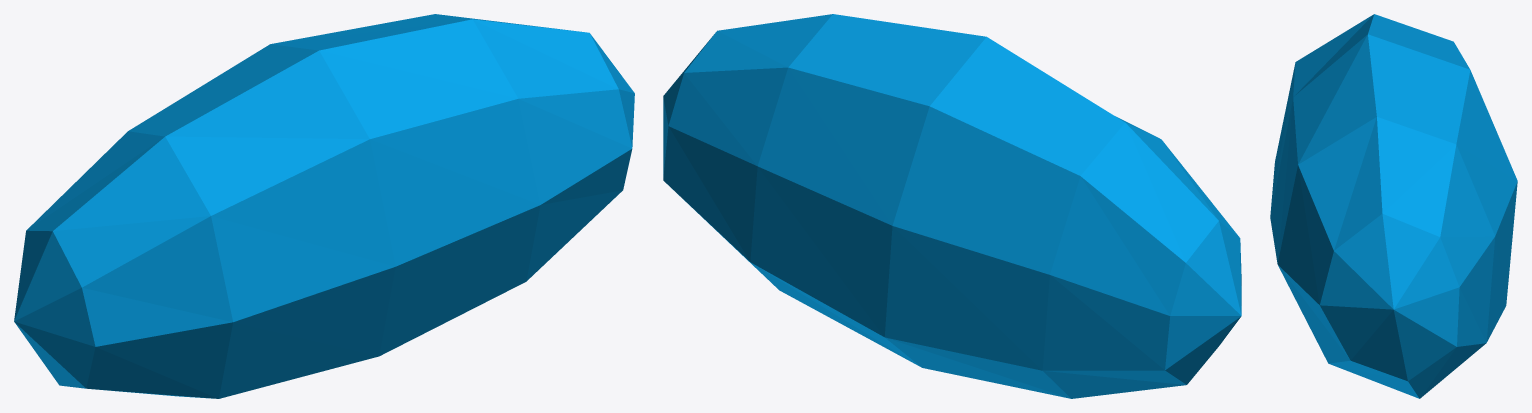
The model's file is BR_Azurill-Shiny01.obj.
The picture shows the model from 3 angles, left to right: view 1: azimuth 30°, elevation 25°; view 2: azimuth 150°, elevation 25°; view 3: azimuth 270°, elevation 25°; orthographic projection. The views are drawn at different scales.
Visible parts, largest first — view 1: ruriri; view 2: ruriri; view 3: ruriri.
Part boxes in pixels (<box>): ruriri: <box>14,14,634,398</box>; ruriri: <box>663,14,1241,398</box>; ruriri: <box>1270,14,1517,398</box>.
Bounding box in the file's own units: 0.9857 × 0.5207 × 0.3656.
1 material, 1 textured.
